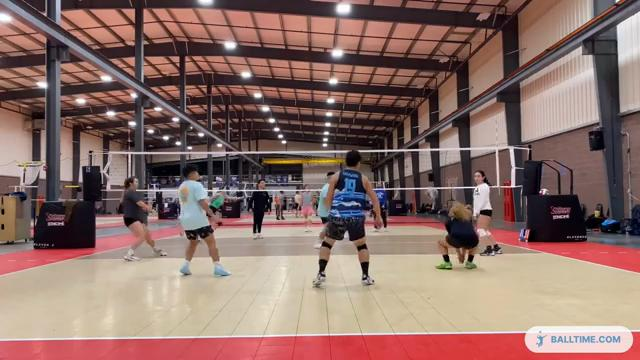ricezione: (431, 198, 480, 271)
